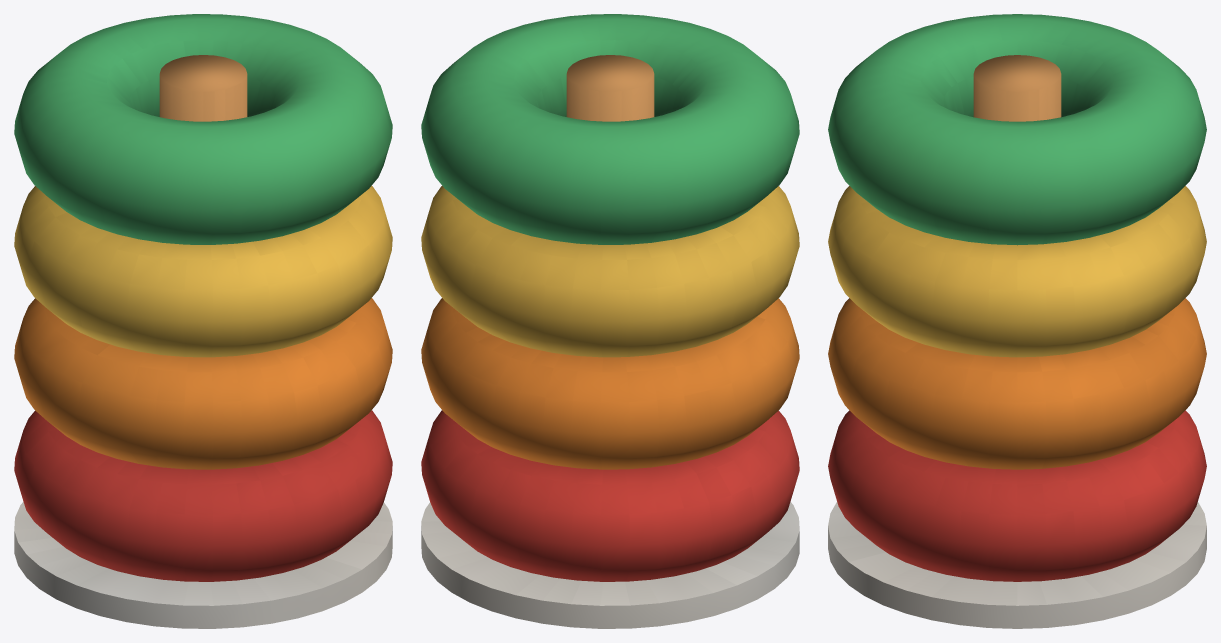
File: den_ring_stack_b.glb
3 views of the same model, side by side, from view 1: azimuth 30°, elevation 25°; view 2: azimuth 150°, elevation 25°; view 3: azimuth 270°, elevation 25° (orthographic).
Visible parts, largest first — view 1: den_ring_stack_b; view 2: den_ring_stack_b; view 3: den_ring_stack_b.
Boxes of the visible parts, box(x1,y1,x2,y2) form: den_ring_stack_b: box(14, 14, 392, 628); den_ring_stack_b: box(421, 14, 799, 628); den_ring_stack_b: box(828, 14, 1206, 628).
Size of the model in its own units: 5.2 by 7.2 by 5.2.
